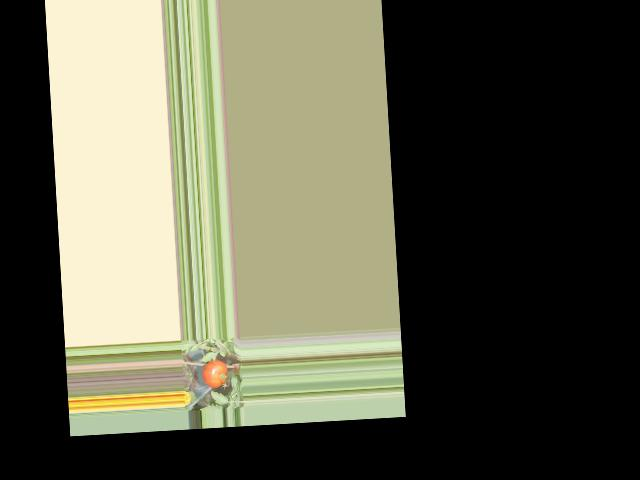tomato: (201, 358, 228, 388)
